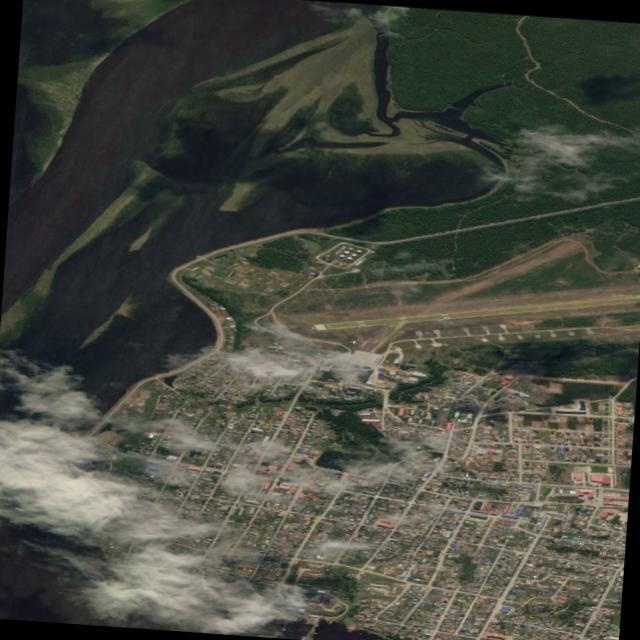storage-tank: (342, 249, 348, 254), (350, 251, 355, 256), (355, 248, 360, 252), (338, 252, 343, 256), (348, 246, 352, 250), (346, 255, 350, 259)
